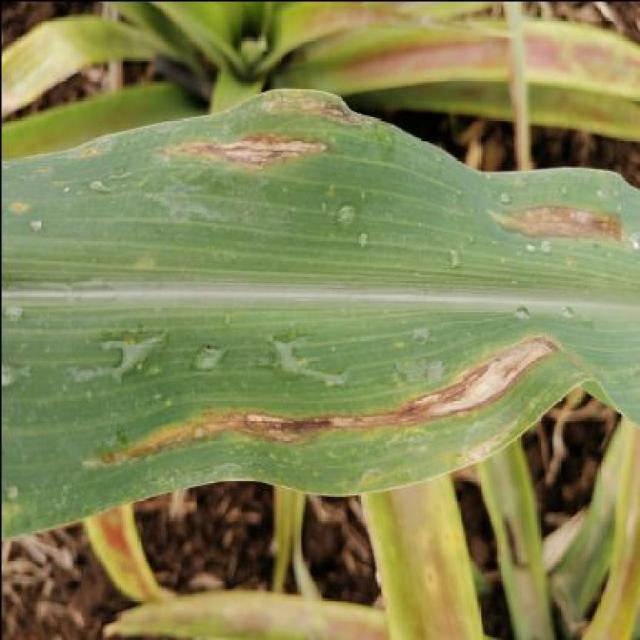Corn_Leaf_Blight: (0, 88, 640, 535)
